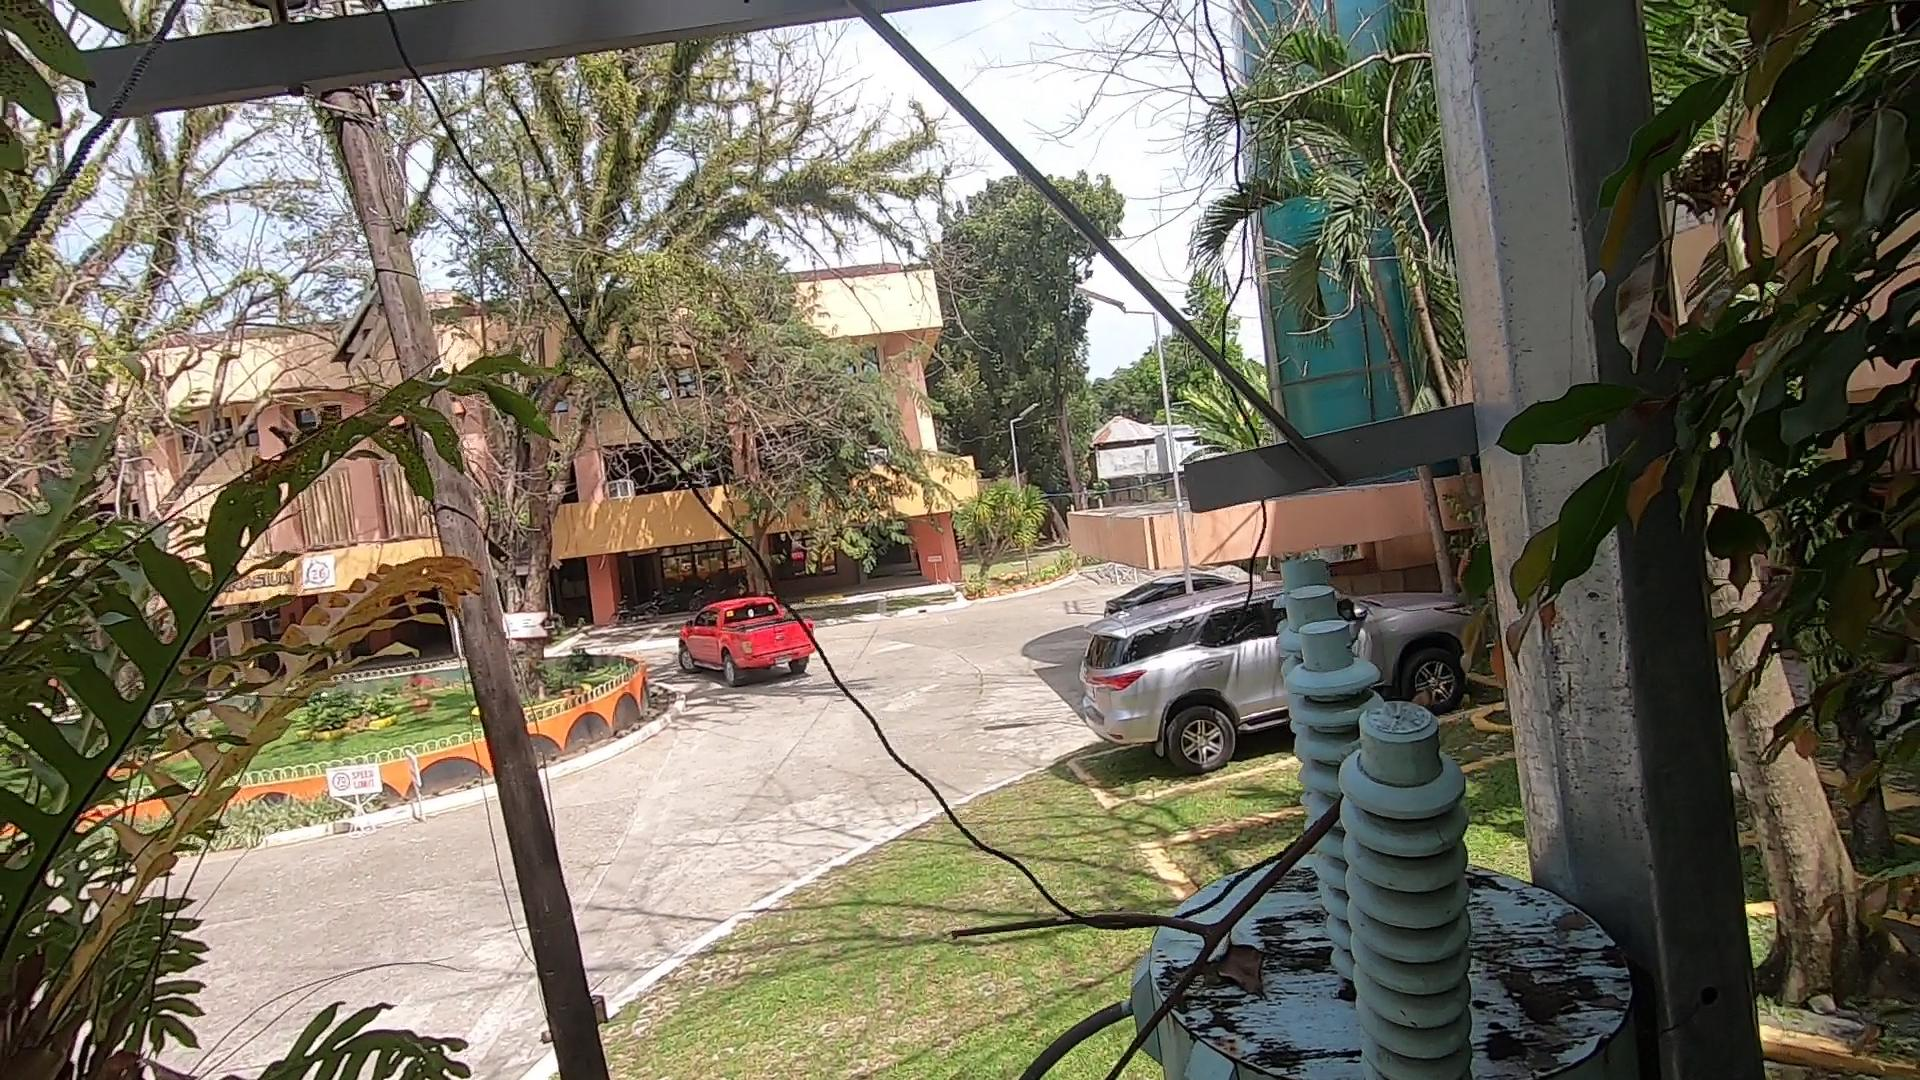leaf: (1211, 928, 1280, 1018)
tree branch: (934, 764, 1346, 1080)
